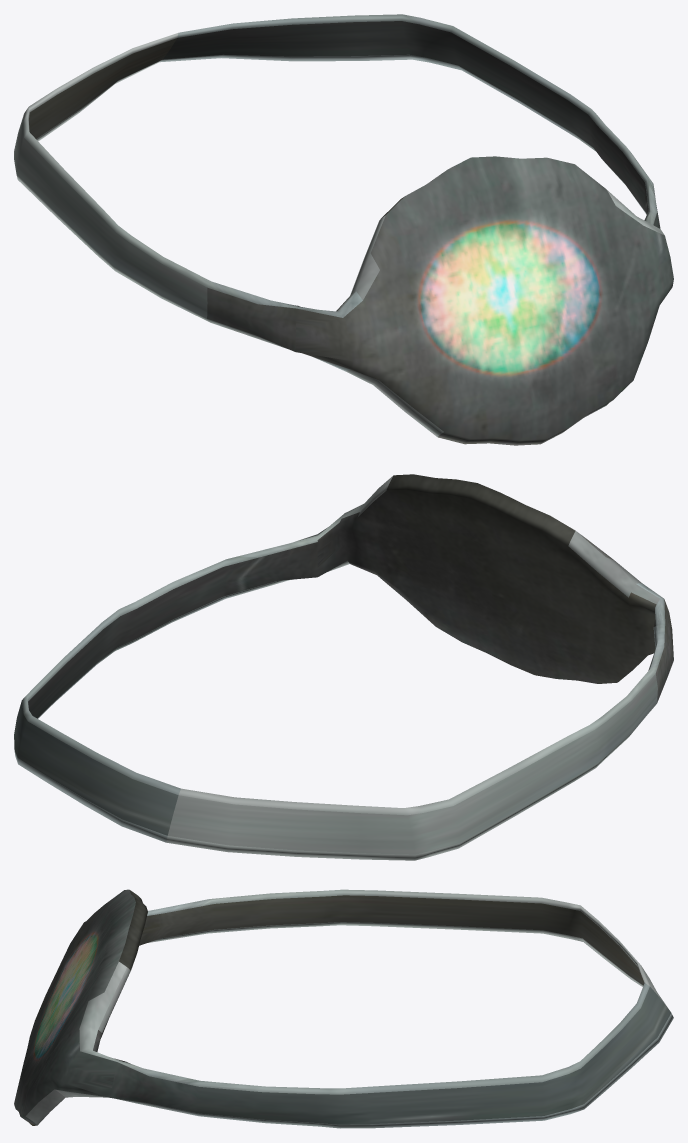
File: Head Piece.fbx
The picture shows the model from 3 angles, top to bottom: view 1: azimuth 30°, elevation 25°; view 2: azimuth 150°, elevation 25°; view 3: azimuth 270°, elevation 25°; orthographic projection. The views are drawn at different scales.
Parts seen in each view (by area): view 1: pCube5; view 2: pCube5; view 3: pCube5.
Boxes of the visible parts, left/top/right/bottom form: pCube5: left=14, top=14, right=673, bottom=445; pCube5: left=14, top=474, right=673, bottom=860; pCube5: left=14, top=889, right=673, bottom=1128.
Bounding box in the file's own units: 15.35 × 7.27 × 20.88.
1 material, 1 textured.
